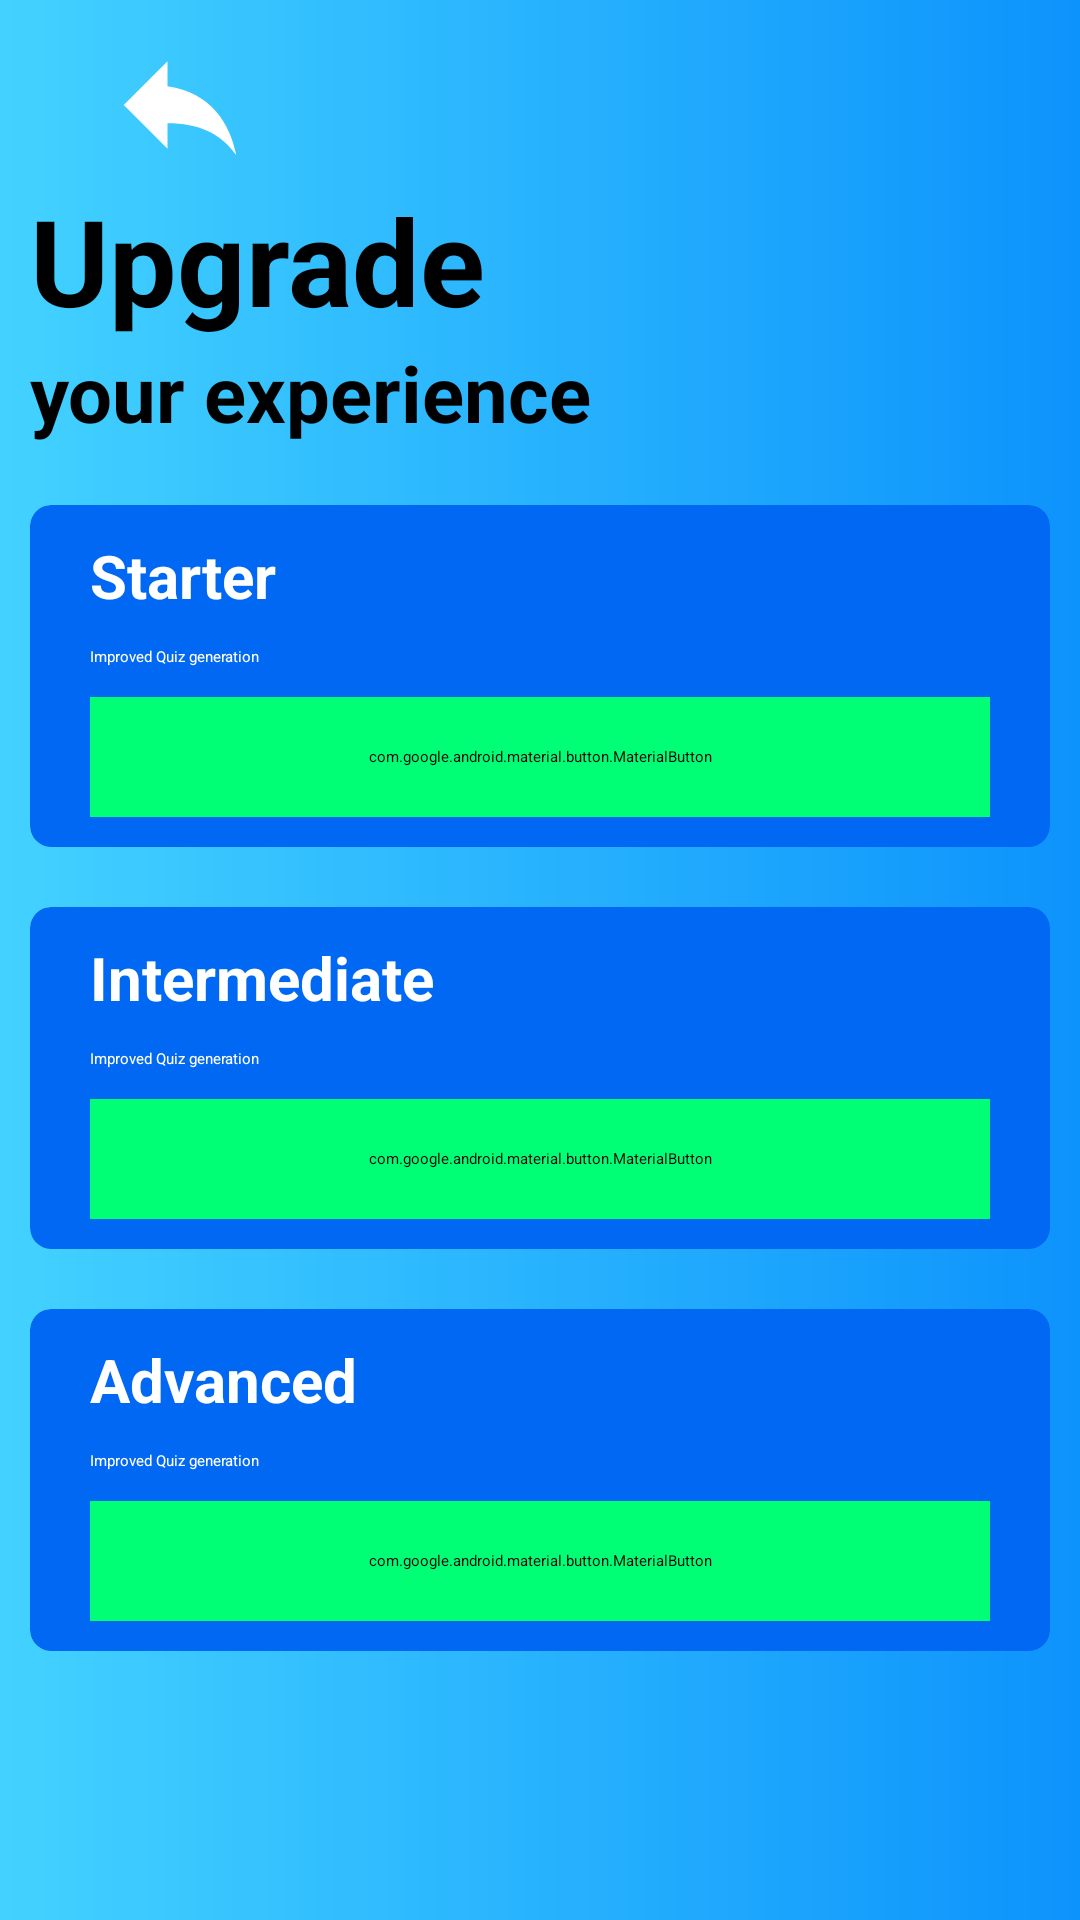

Icons on this 1080*1920 Android screen, each with the point to tap as [x,y]:
reply: [180,108]
